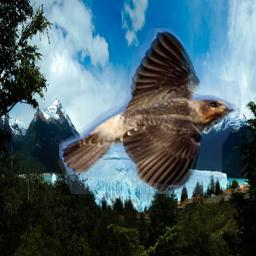Swallow: (59, 28, 241, 194)
